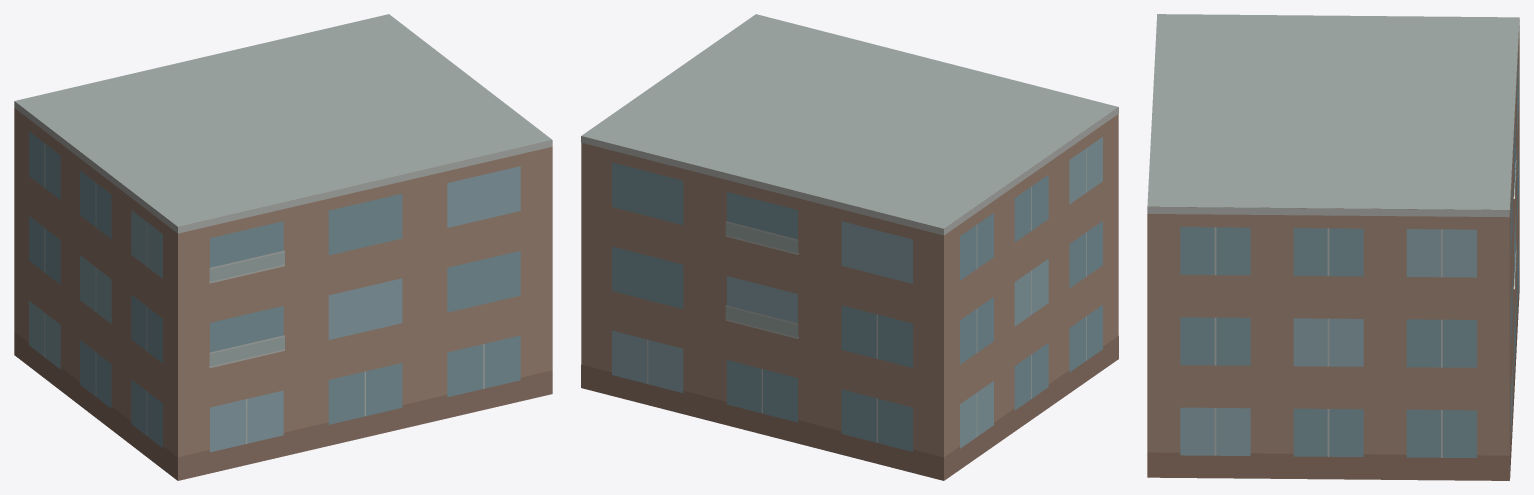
Rendered from survey-upis-32832993.glb.
3 views of the same model, side by side, from view 1: azimuth 30°, elevation 25°; view 2: azimuth 150°, elevation 25°; view 3: azimuth 270°, elevation 25° (orthographic). The views are drawn at different scales.
Parts seen in each view (by area): view 1: survey-upis-32832993.tmp; view 2: survey-upis-32832993.tmp; view 3: survey-upis-32832993.tmp.
Part boxes in pixels (left/top/right/bottom): survey-upis-32832993.tmp: left=14, top=14, right=552, bottom=480; survey-upis-32832993.tmp: left=581, top=14, right=1118, bottom=480; survey-upis-32832993.tmp: left=1147, top=14, right=1519, bottom=480.
Bounding box in the file's own units: 14.2 × 9.15 × 11.4.
